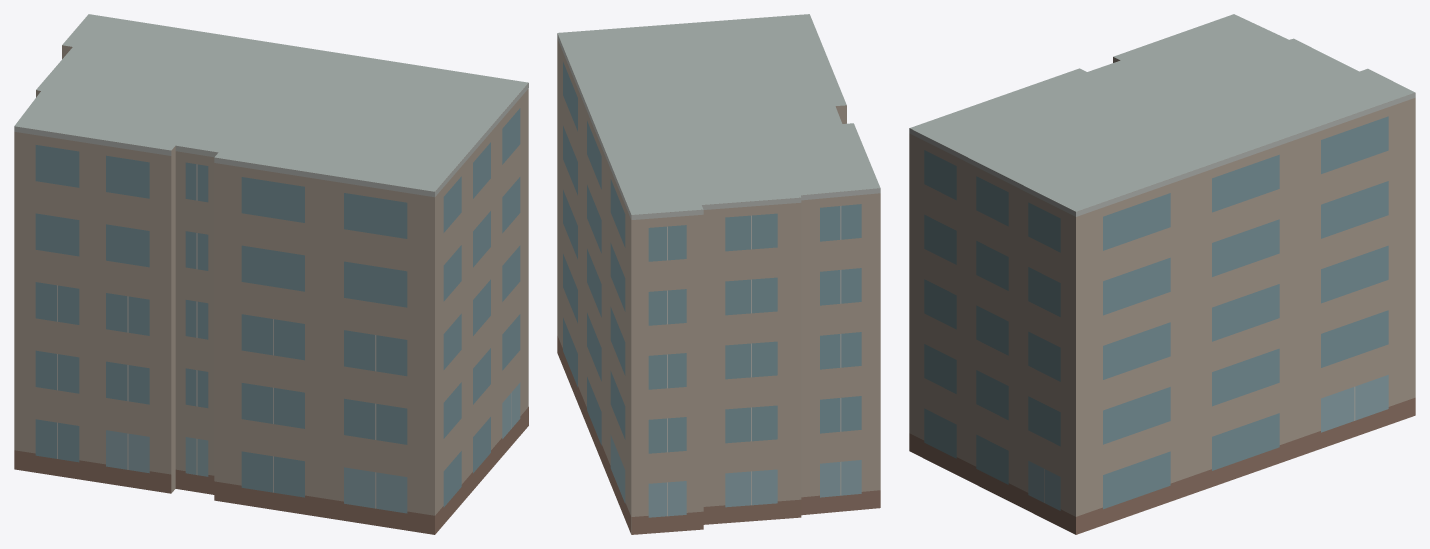
Rendered from survey-upis-32628484.glb.
3 renders of one model, left to right at view 1: azimuth 30°, elevation 25°; view 2: azimuth 150°, elevation 25°; view 3: azimuth 270°, elevation 25°, orthographic. The views are drawn at different scales.
Parts seen in each view (by area): view 1: survey-upis-32628484.tmp; view 2: survey-upis-32628484.tmp; view 3: survey-upis-32628484.tmp.
Boxes of the visible parts, x1,y1,x2,y2 form: survey-upis-32628484.tmp: (14, 14, 528, 534); survey-upis-32628484.tmp: (557, 14, 880, 534); survey-upis-32628484.tmp: (909, 14, 1415, 534).
Size of the model in its own units: 20.04 by 15.25 by 21.66.
